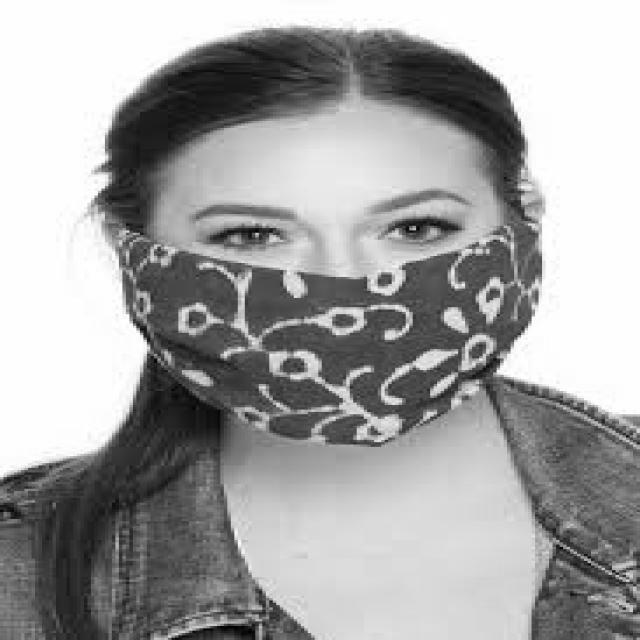fake: (118, 207, 549, 452)
real: (151, 123, 525, 476)
